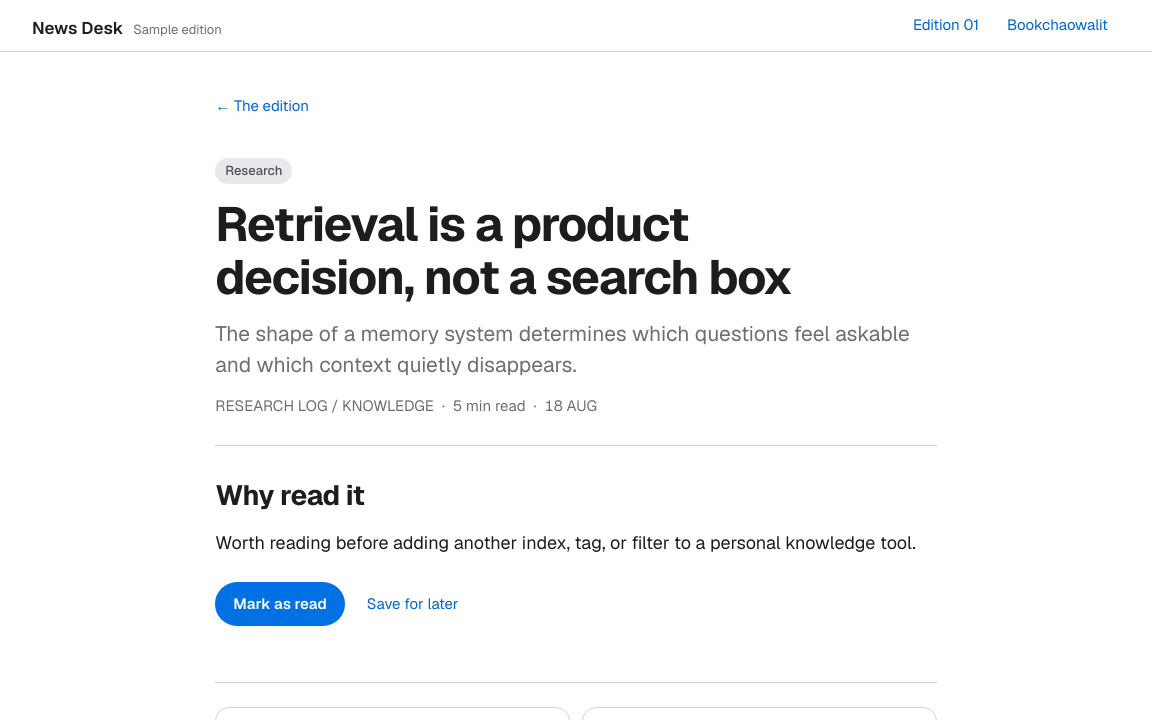
note pages › marks read and saves for later in this browser, with a status message
The width and height of the screenshot is (1152, 720).
Check: the heading "Retrieval is a product decision, not a search box" is shown, box top-left (215, 193), bottom-right (792, 308)
Click the button "Mark as read".
click(280, 604)  # box top-left (215, 582), bottom-right (345, 626)
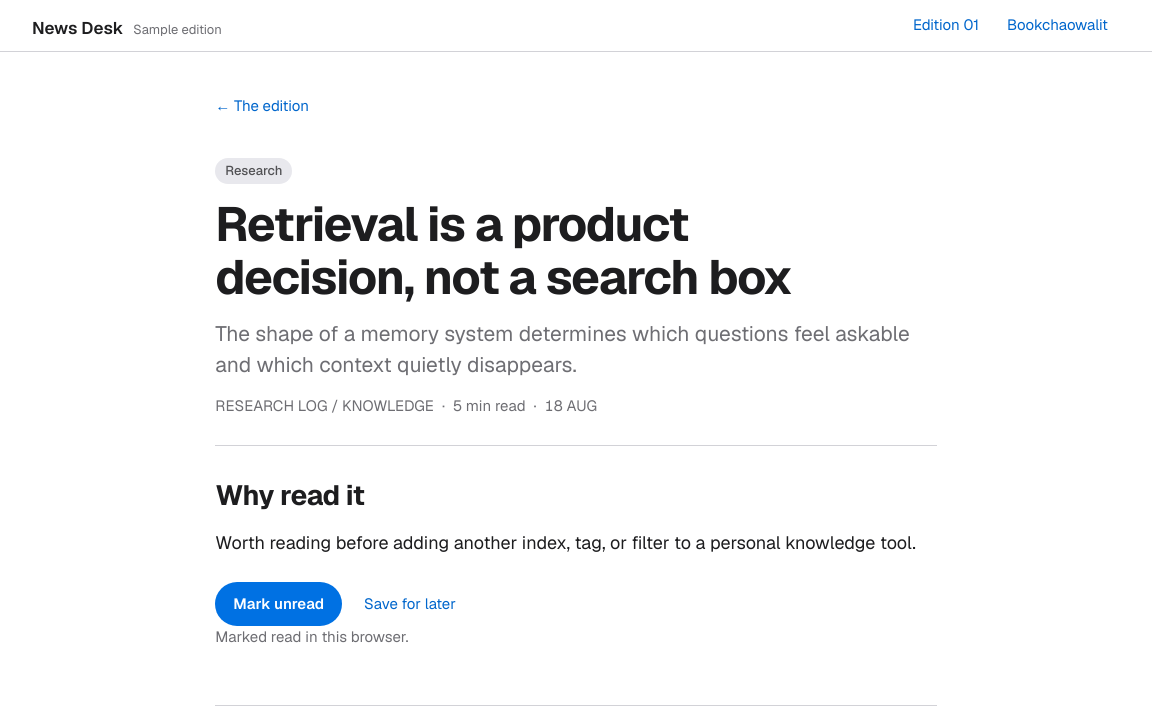
Check: the message with class "rs-count" reads "Marked read in this browser.", box top-left (215, 627), bottom-right (408, 646)
Click the button "Save for later".
click(410, 604)  # box top-left (350, 582), bottom-right (470, 626)
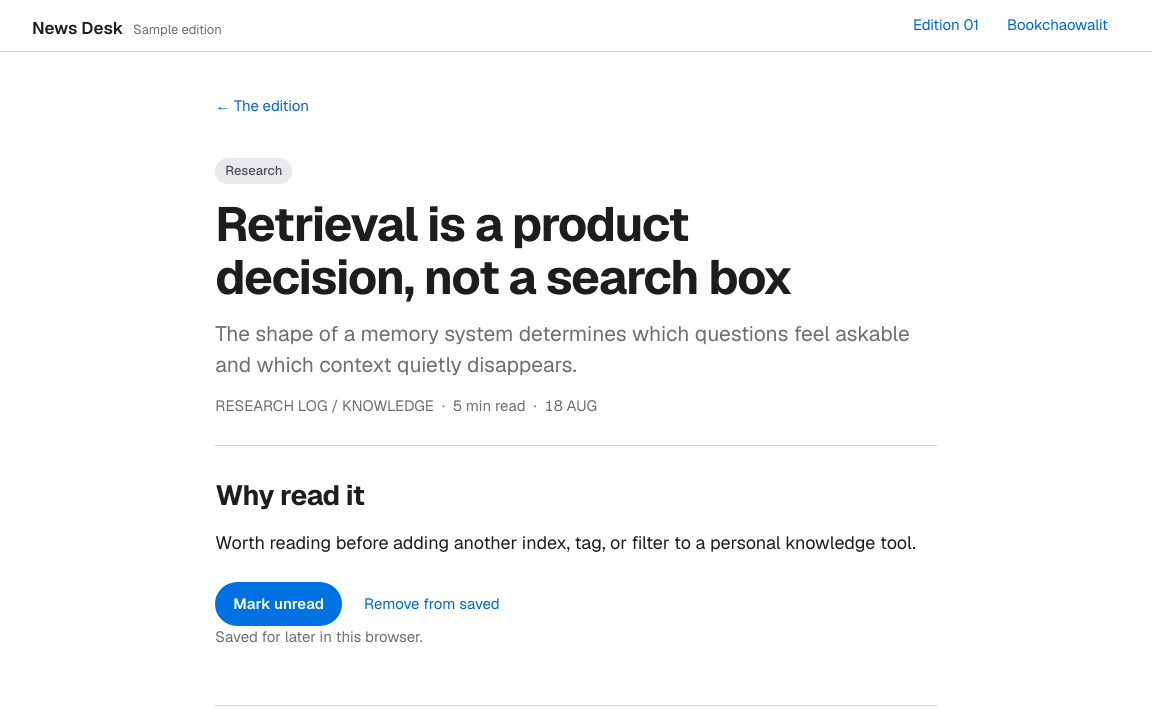
Click the button "Mark unread".
click(279, 604)  # box top-left (215, 582), bottom-right (342, 626)
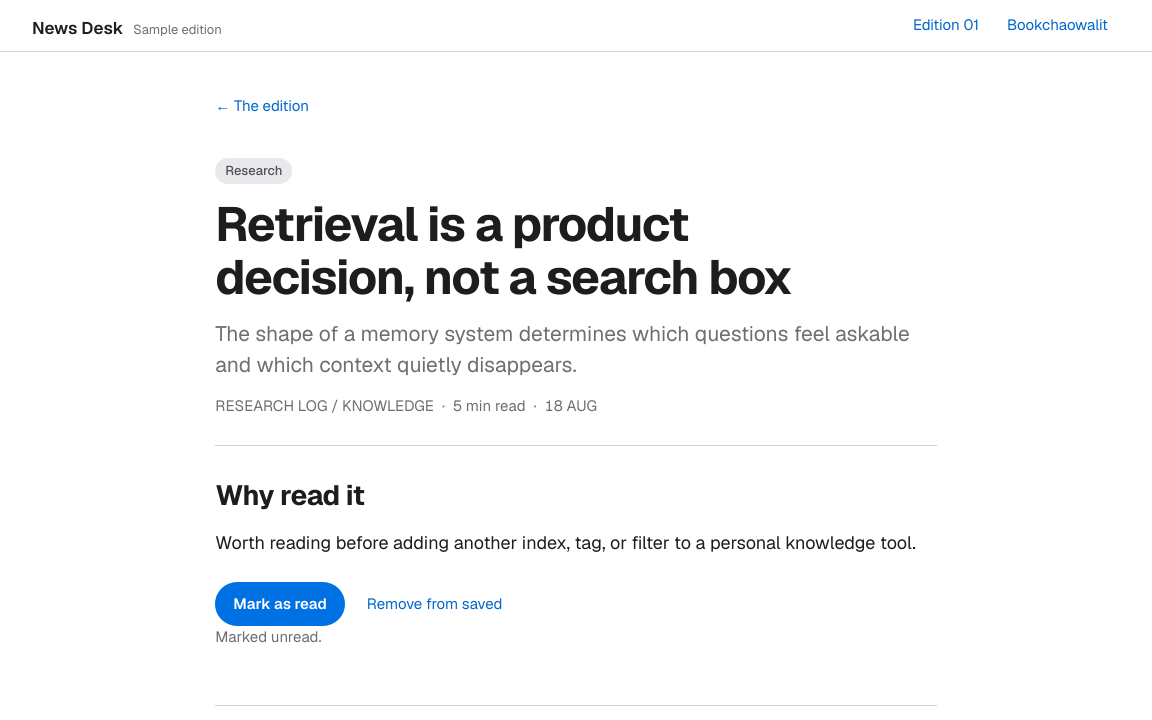
Click the button "Remove from saved".
click(435, 604)  # box top-left (353, 582), bottom-right (516, 626)
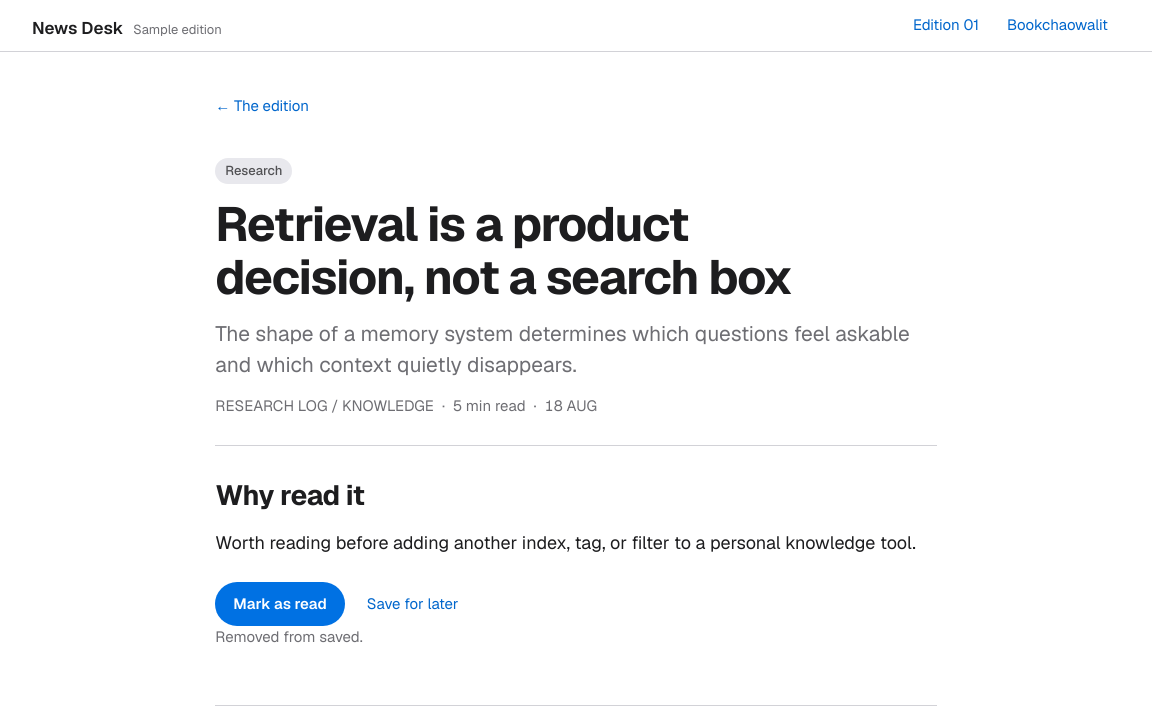
Check: the message with class "rs-count" reads "Removed from saved.", box top-left (215, 627), bottom-right (363, 646)
